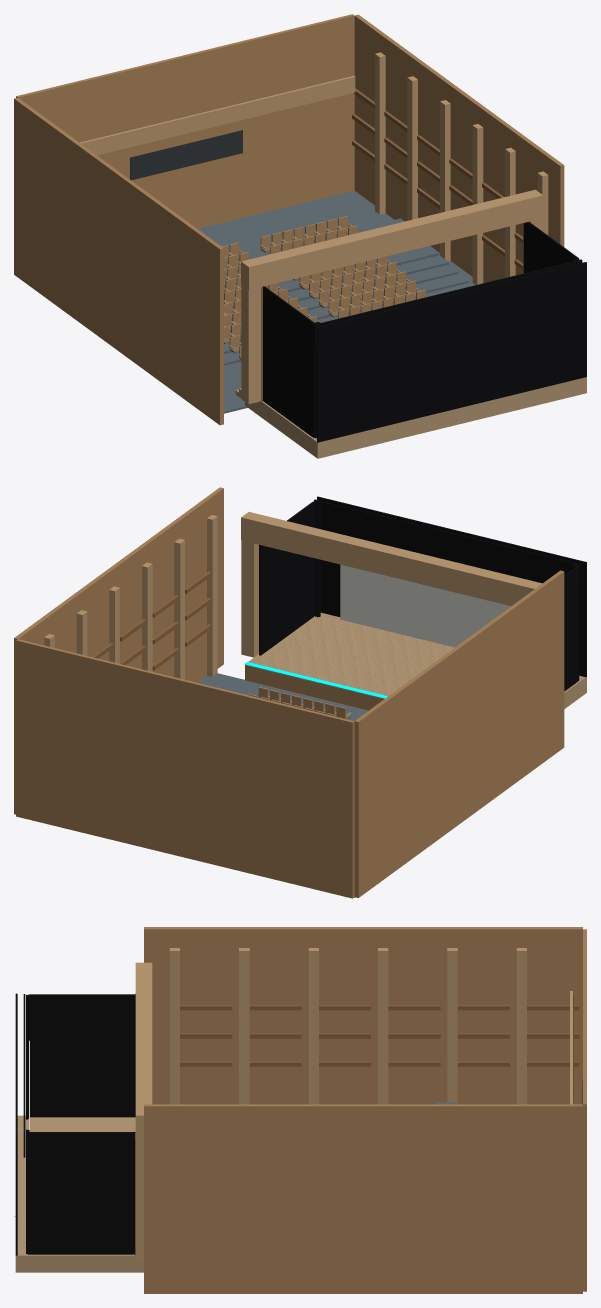
File: small-auditorium-combined.glb
3 views of the same model, one above another, from view 1: azimuth 30°, elevation 25°; view 2: azimuth 150°, elevation 25°; view 3: azimuth 270°, elevation 25° (orthographic). The views are drawn at different scales.
Visible parts, largest first — view 1: Hall | side wall -1, Hall | rear wall, Stage | rear black curtain, Hall | side wall 1, Proscenium | timber header, Hall | auditorium carpet, Stage | black side masking -1, Stage | platform, Hall | balcony fascia, Hall | rear control window, Proscenium | right pier, Hall | side pilaster 1-5 (+10 smaller); view 2: Hall | rear wall, Hall | side wall -1, Hall | side wall 1, Stage | platform, Proscenium | timber header, Stage | projection screen, Stage | upper black masking, Stage | black side masking 1, Stage | rear black curtain, Proscenium | left pier, Stage | front timber fascia, Stage | black side masking -1 (+6 smaller); view 3: Hall | side wall 1, Hall | side wall -1, Stage | black side masking -1, Stage | black side masking 1, Stage | platform, Proscenium | timber header, Hall | side pilaster -1-1, Hall | side pilaster -1-0, Hall | side pilaster -1-2, Hall | side pilaster -1-3, Hall | side pilaster -1-5, Hall | side pilaster -1-4 (+4 smaller).
Boxes of the visible parts, <box> form: Hall | side wall -1: <box>14,97,223,425</box>; Hall | rear wall: <box>16,14,354,228</box>; Stage | rear black curtain: <box>317,262,586,442</box>; Hall | side wall 1: <box>354,14,564,283</box>; Proscenium | timber header: <box>241,189,543,289</box>; Hall | auditorium carpet: <box>198,190,475,413</box>; Stage | black side masking -1: <box>263,286,313,437</box>; Stage | platform: <box>246,377,586,458</box>; Hall | balcony fascia: <box>80,75,355,155</box>; Hall | rear control window: <box>130,130,242,180</box>; Proscenium | right pier: <box>241,285,261,404</box>; Hall | side pilaster 1-5: <box>375,52,385,214</box>; Hall | rear wall: <box>16,639,354,898</box>; Hall | side wall -1: <box>354,570,564,897</box>; Hall | side wall 1: <box>14,487,223,814</box>; Stage | platform: <box>248,612,586,708</box>; Proscenium | timber header: <box>241,512,542,606</box>; Stage | projection screen: <box>340,564,510,647</box>; Stage | upper black masking: <box>314,499,582,587</box>; Stage | black side masking 1: <box>259,502,314,655</box>; Stage | rear black curtain: <box>317,496,586,677</box>; Proscenium | left pier: <box>241,540,258,657</box>; Stage | front timber fascia: <box>245,665,383,710</box>; Stage | black side masking -1: <box>564,566,578,691</box>; Hall | side wall 1: <box>144,1104,582,1293</box>; Hall | side wall -1: <box>144,927,582,1104</box>; Stage | black side masking -1: <box>29,994,135,1117</box>; Stage | black side masking 1: <box>29,1132,135,1254</box>; Stage | platform: <box>15,1115,143,1272</box>; Proscenium | timber header: <box>135,962,152,1139</box>; Hall | side pilaster -1-1: <box>239,948,249,1104</box>; Hall | side pilaster -1-0: <box>169,948,179,1104</box>; Hall | side pilaster -1-2: <box>308,948,318,1104</box>; Hall | side pilaster -1-3: <box>378,948,388,1104</box>; Hall | side pilaster -1-5: <box>516,948,526,1104</box>; Hall | side pilaster -1-4: <box>447,948,457,1104</box>.
Size of the model in its own units: 20.48 by 10.04 by 27.68.
